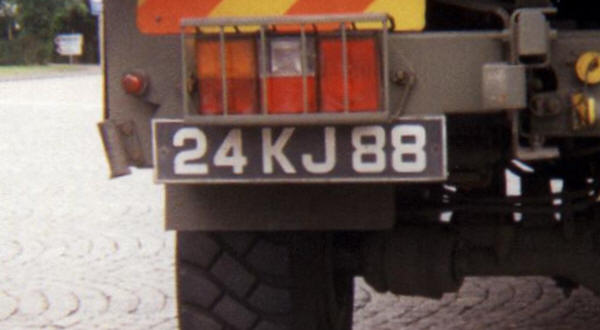license_plate: (152, 118, 447, 181)
